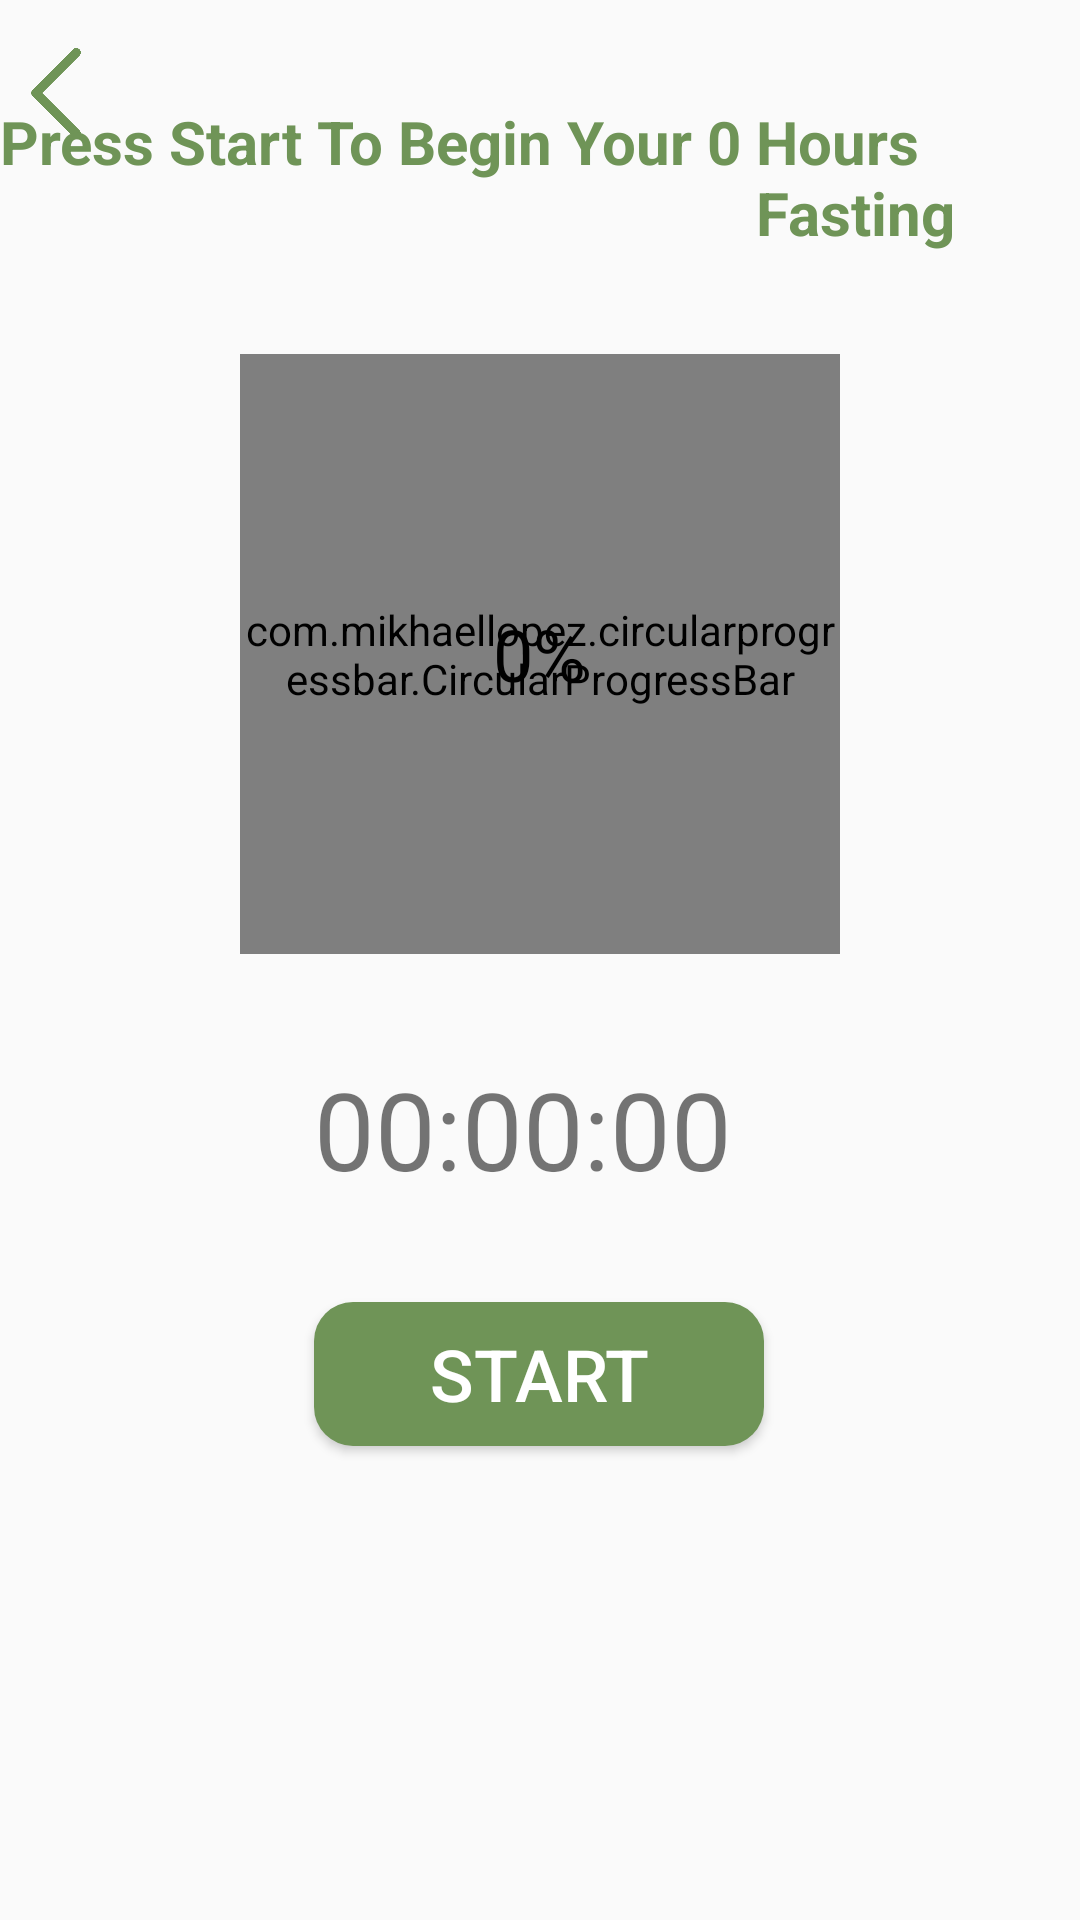

Locate icon controls on the screen. Image size 1080w x 1920h, boxes as (x1, y1, x2, y2).
back: (11, 48, 101, 138)
